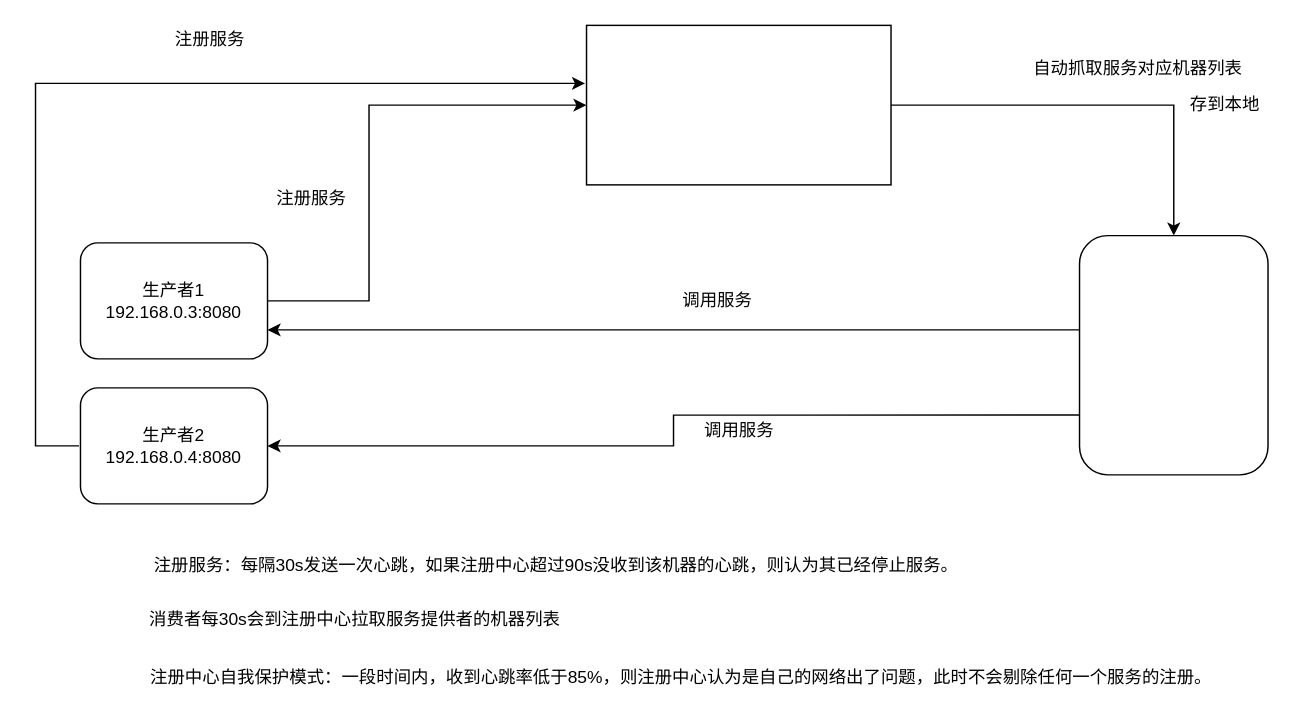
This 1293x718 diagram has some shape labels left out. Here are the shapes that lost their labels. From the top down, the centre of each, then its label:
the point at 738,104: eureka 192.168.0.1:9090
the point at 1173,354: 消费者1 192.168.0.5:8080
